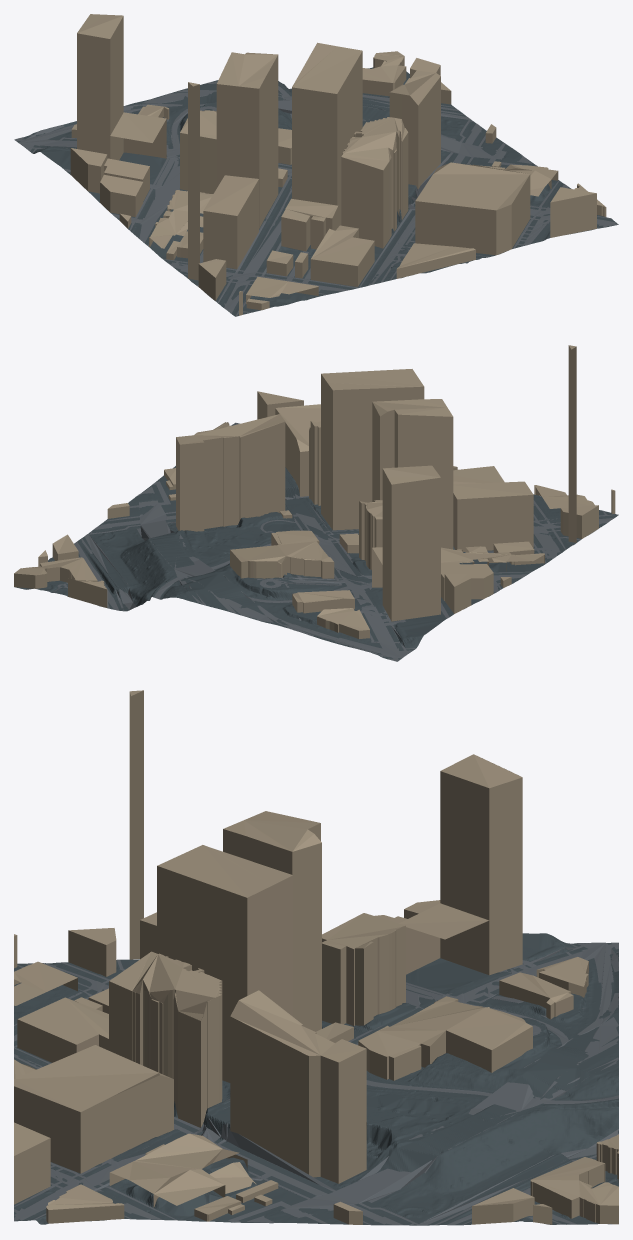
File: epsg26910-1441-10891.lod0.glb
3 renders of one model, top to bottom at view 1: azimuth 30°, elevation 25°; view 2: azimuth 150°, elevation 25°; view 3: azimuth 270°, elevation 25°, orthographic. The views are drawn at different scales.
Visible parts, largest first — view 1: epsg26910-1441-10891-lod0; view 2: epsg26910-1441-10891-lod0; view 3: epsg26910-1441-10891-lod0.
Boxes of the visible parts, x1=… form: epsg26910-1441-10891-lod0: x1=14, y1=14, x2=618, y2=316; epsg26910-1441-10891-lod0: x1=14, y1=345, x2=618, y2=661; epsg26910-1441-10891-lod0: x1=14, y1=690, x2=618, y2=1225.
Size of the model in its own units: 384 by 196 by 384.
